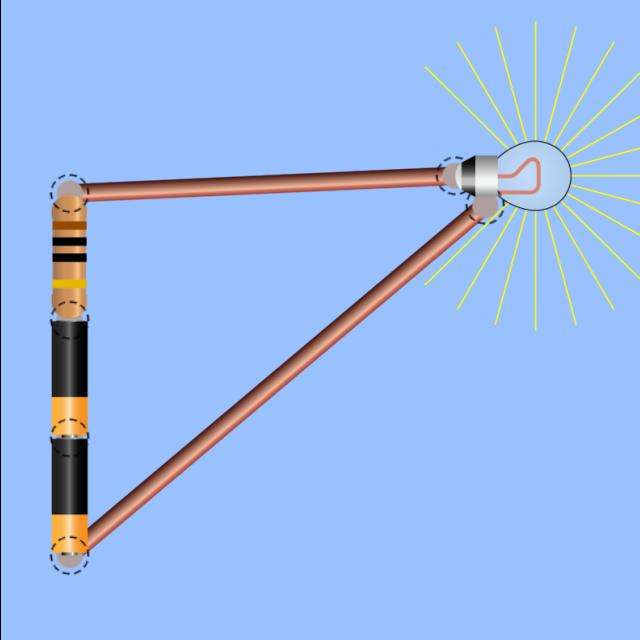Wire: (87, 208, 480, 549), (80, 168, 444, 201)
